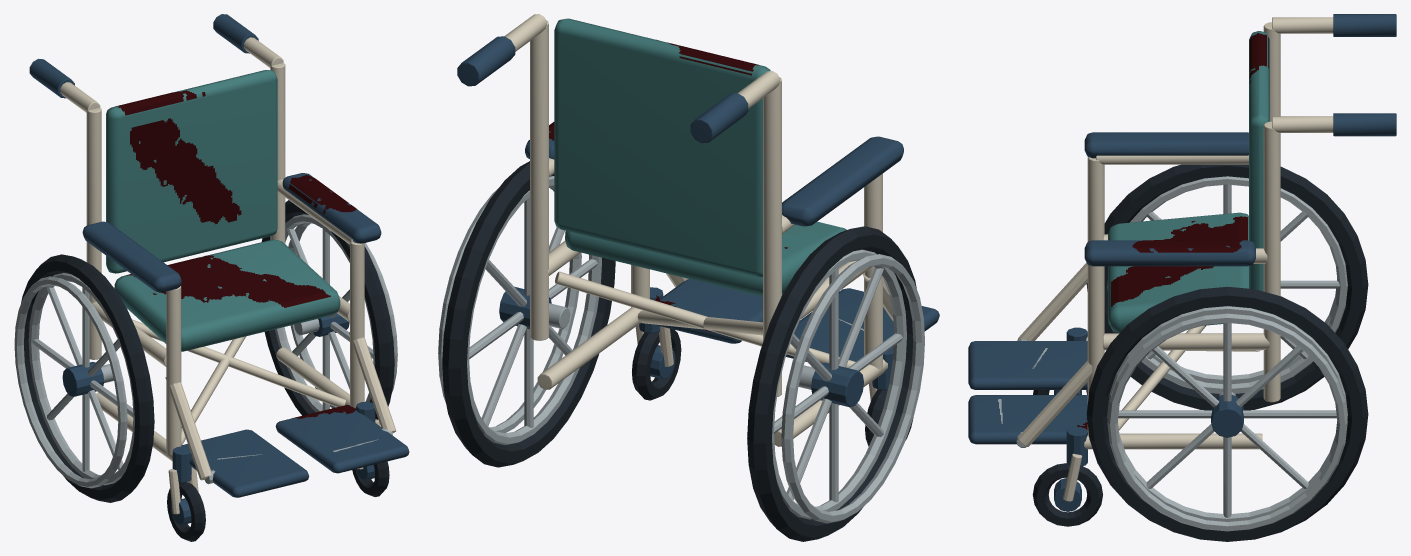
The model's file is wheelchair.glb.
3 renders of one model, left to right at view 1: azimuth 30°, elevation 25°; view 2: azimuth 150°, elevation 25°; view 3: azimuth 270°, elevation 25°, orthographic. The views are drawn at different scales.
Parts seen in each view (by area): view 1: wheelchair_Outbreak_Static; view 2: wheelchair_Outbreak_Static; view 3: wheelchair_Outbreak_Static.
Boxes of the visible parts, left/top/right/bottom form: wheelchair_Outbreak_Static: left=14, top=14, right=409, bottom=541; wheelchair_Outbreak_Static: left=438, top=14, right=939, bottom=541; wheelchair_Outbreak_Static: left=968, top=14, right=1396, bottom=541.
Bounding box in the file's own units: 0.7551 × 0.97 × 0.912.
